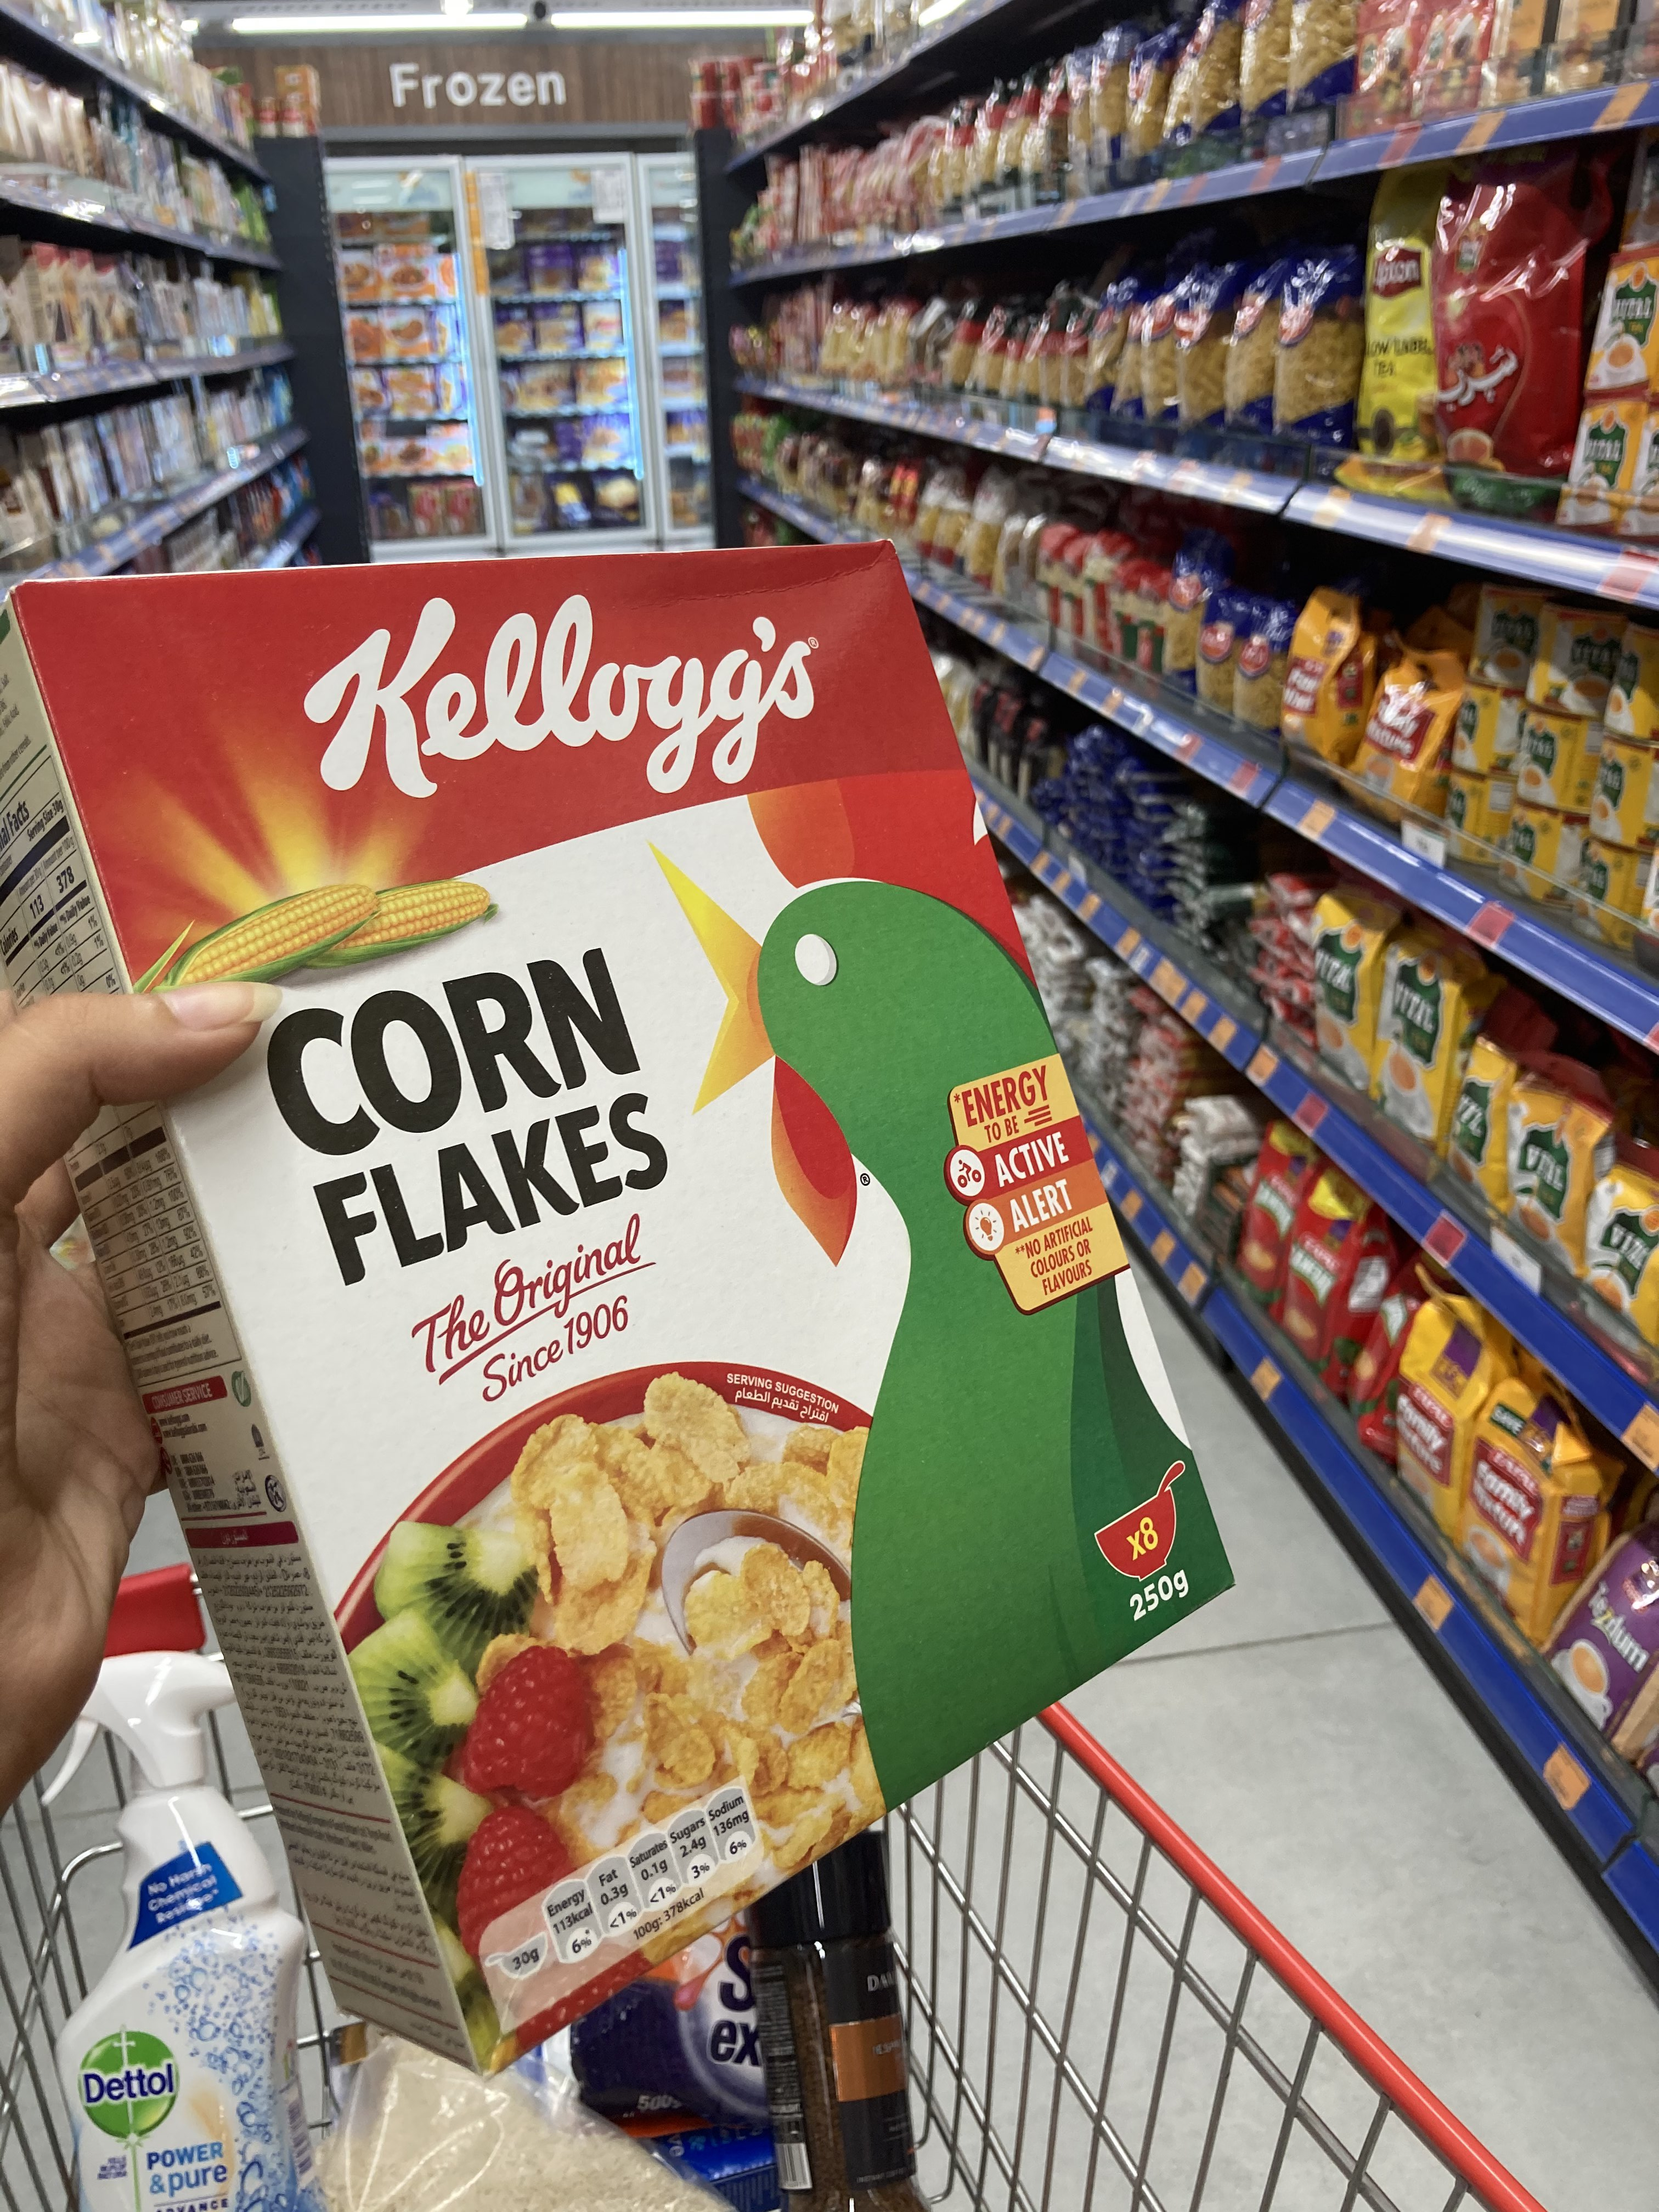Kellogg's Corn Flakes: (2, 523, 1249, 2080)
